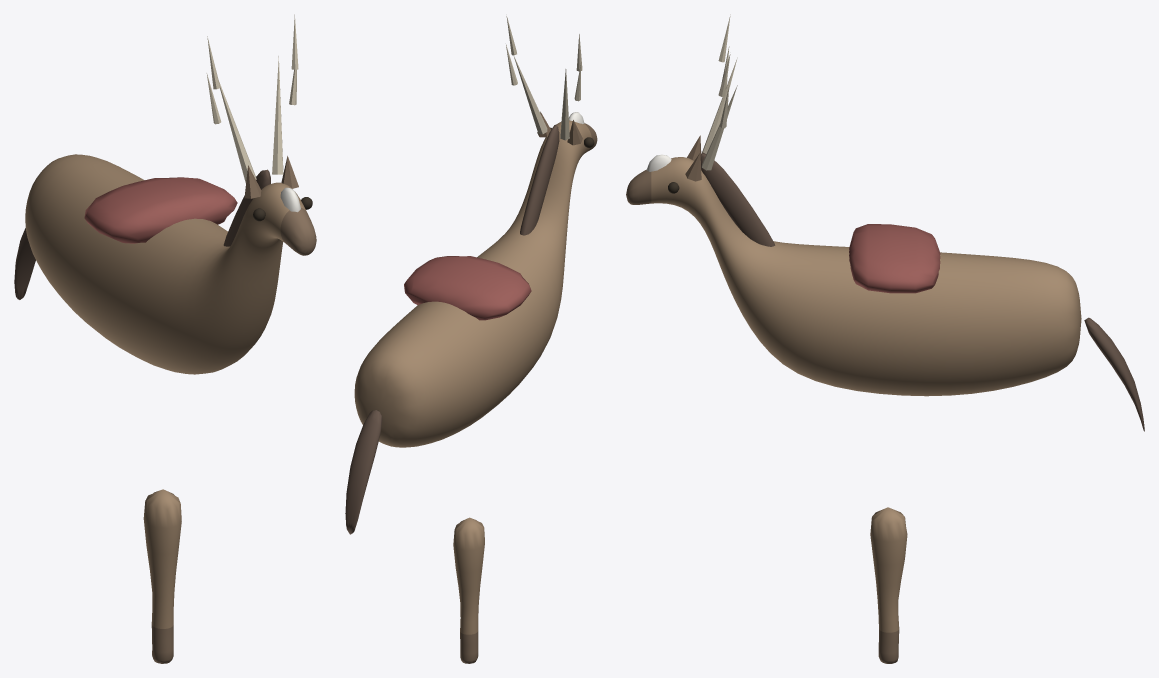
The model's file is horse.glb.
3 renders of one model, left to right at view 1: azimuth 30°, elevation 25°; view 2: azimuth 150°, elevation 25°; view 3: azimuth 270°, elevation 25°, orthographic. The views are drawn at different scales.
Visible parts, largest first — view 1: Body, Saddle, HorseLeg, Tail, Antlers.003, Mane, Antlers; view 2: Body, Saddle, HorseLeg, Tail, Mane, Antlers.003, Antlers; view 3: Body, Saddle, HorseLeg, Mane, Tail.
Boxes of the visible parts, x1,y1,x2,y2 form: Body: (25,154,316,374); Saddle: (84,177,237,243); HorseLeg: (143,489,181,663); Tail: (14,228,35,299); Antlers.003: (272,56,283,174); Mane: (223,169,270,246); Antlers: (218,80,256,182); Body: (354,120,597,447); Saddle: (404,256,531,320); HorseLeg: (453,517,484,663); Tail: (345,410,382,534); Mane: (520,124,559,235); Antlers.003: (513,54,547,134); Antlers: (560,69,569,140); Body: (626,157,1081,396); Saddle: (849,224,940,293); HorseLeg: (870,507,907,663); Mane: (700,152,775,246); Tail: (1084,317,1144,431).
Size of the model in its own units: 0.6991 by 3.56 by 2.66.
